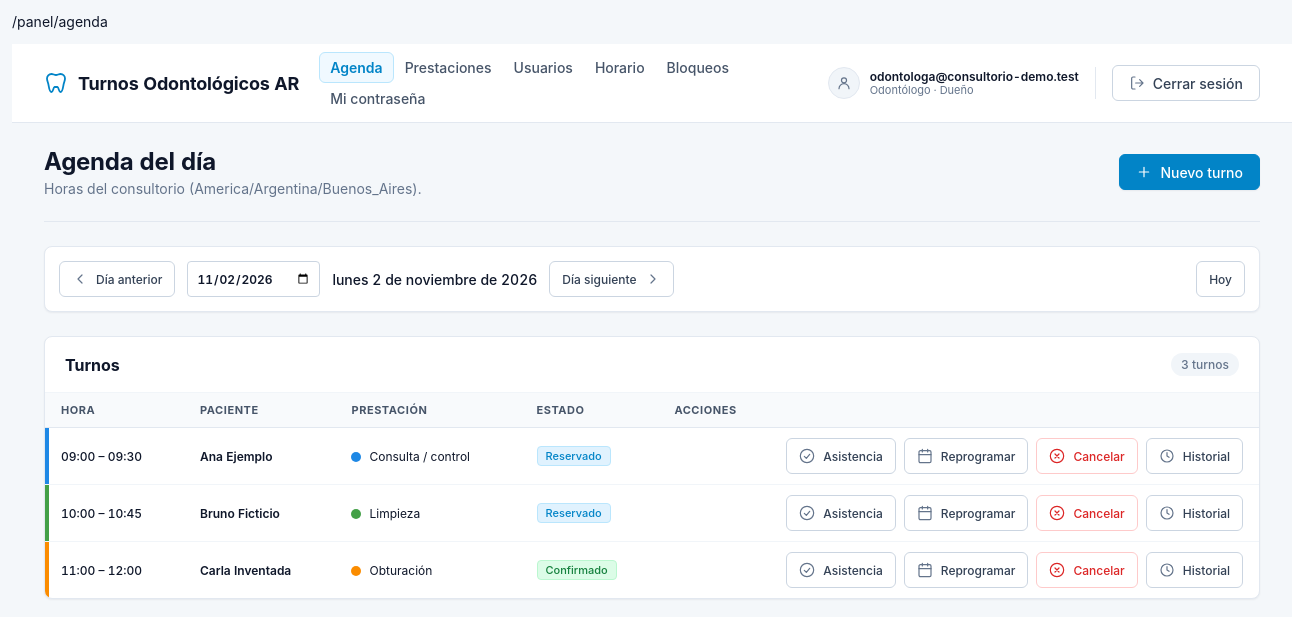
Scenario: PaginaAgenda: el día › AGE-4b: cambiar de día y volver a hoy
Expected: the text "lunes 2 de noviembre de 2026" is shown, [332,270,537,288]
Click the button "Día siguiente" at (611, 279), box [549,261,674,297]
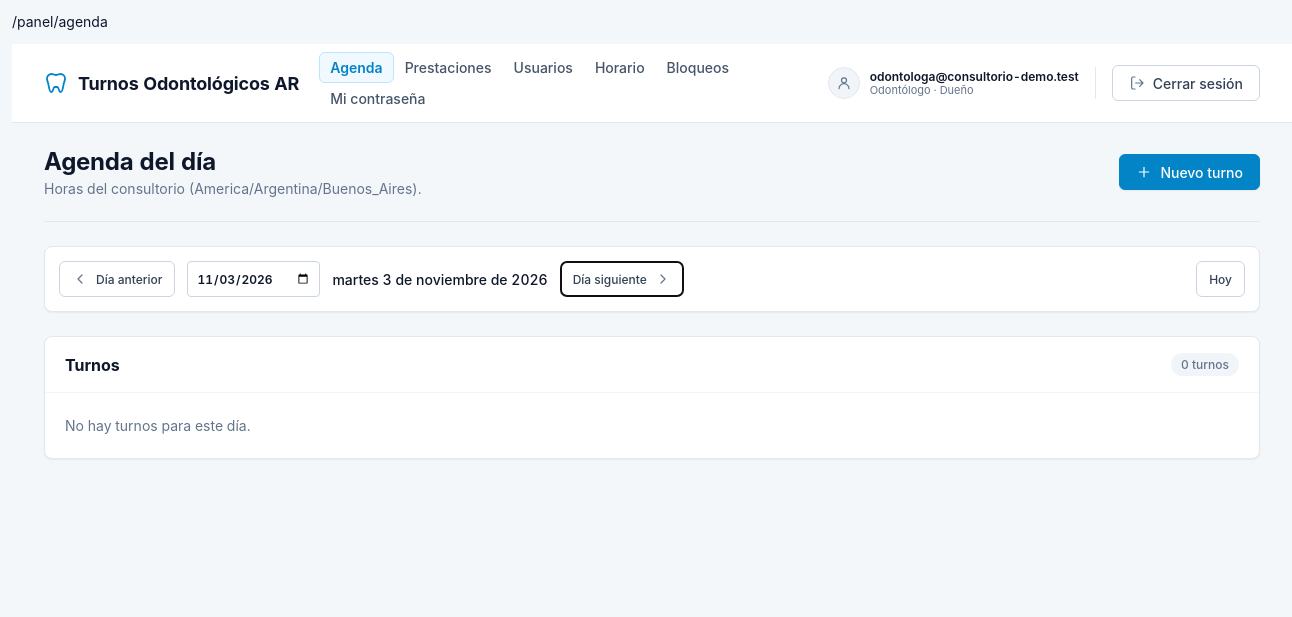
Expected: the text "martes 3 de noviembre de 2026" is shown, [332,270,548,288]
Expected: the text "No hay turnos para este día." is shown, [65,417,250,434]
Click the button "Día anterior" at (117, 279), box [59,261,175,297]
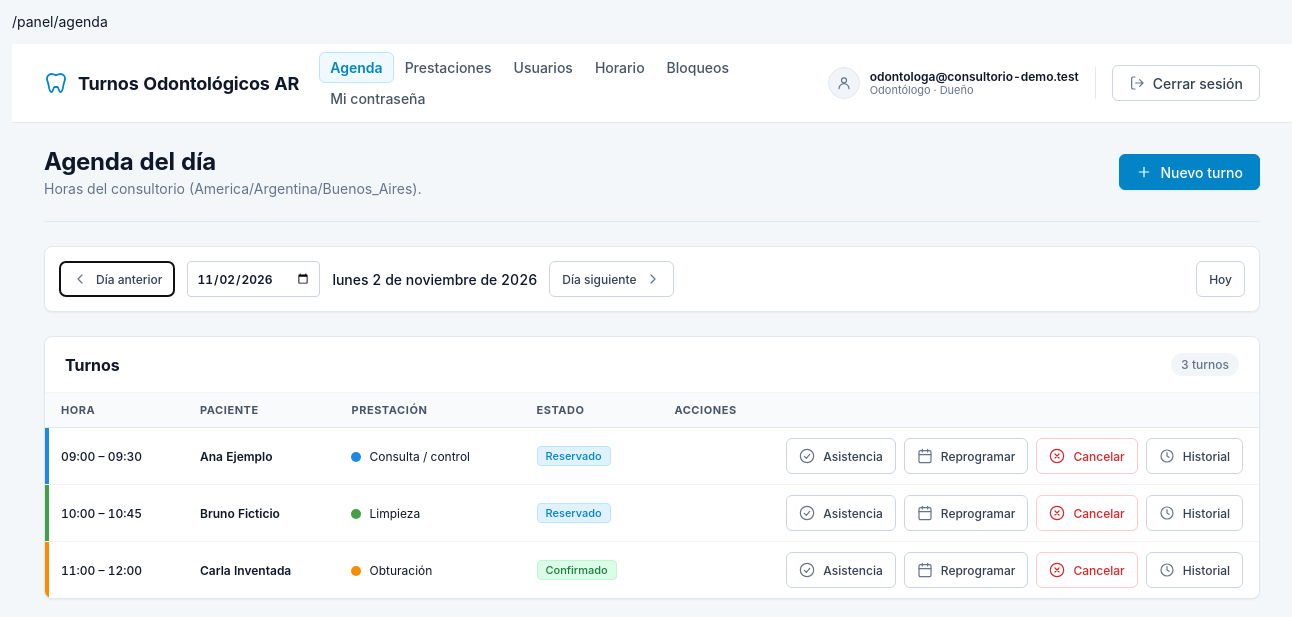
Expected: the text "lunes 2 de noviembre de 2026" is shown, [332,270,537,288]
Click the button "Día anterior" at (117, 279), box [59,261,175,297]
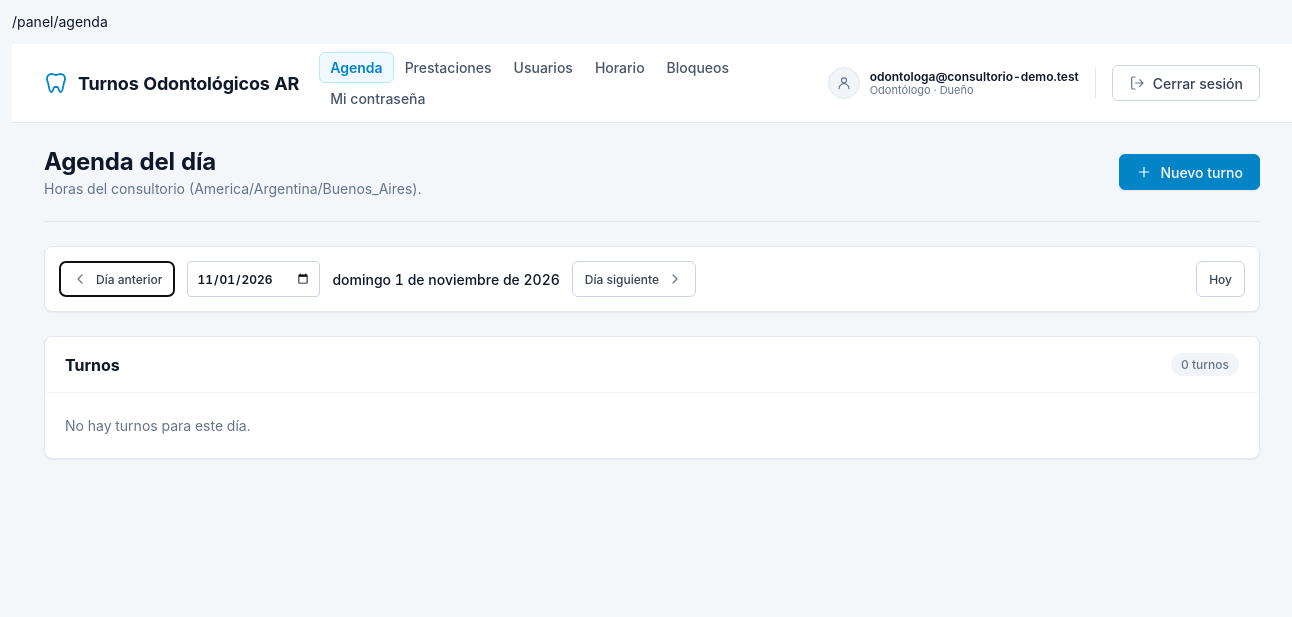
Expected: the text "domingo 1 de noviembre de 2026" is shown, [332,270,560,288]
Type "2026-11-10" into the date field named "Fecha de la agenda" at (254, 279), box [187,261,320,297]
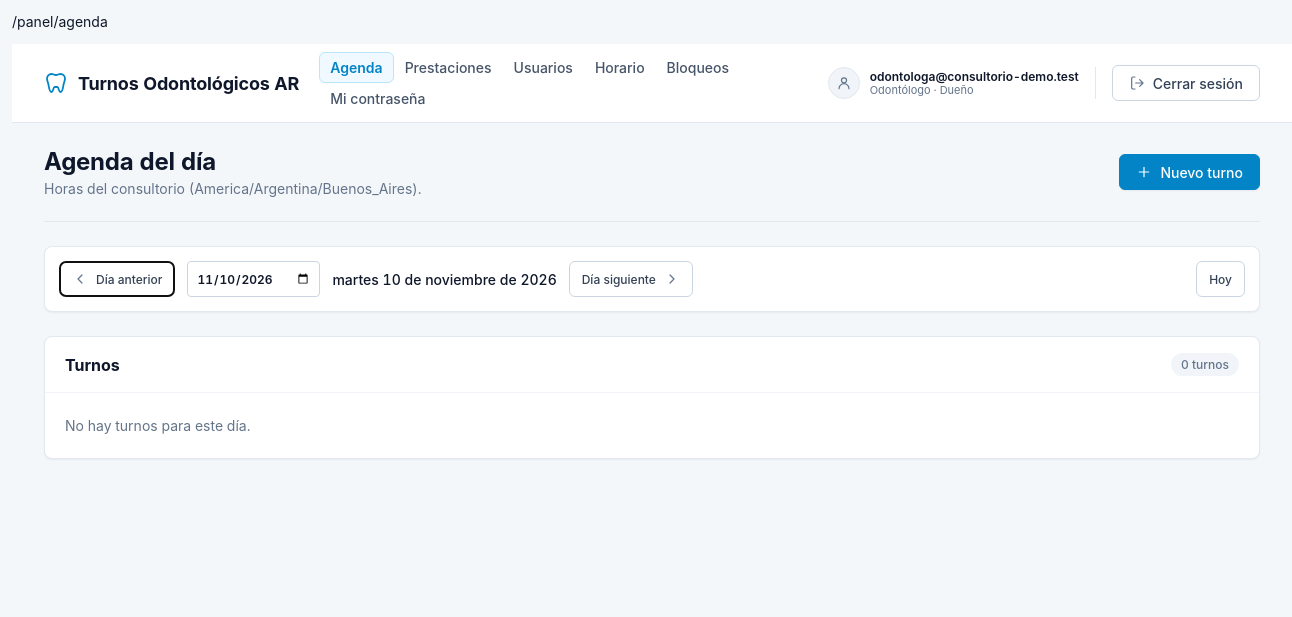
Expected: the text "martes 10 de noviembre de 2026" is shown, [332,270,557,288]
Click the button "Hoy" at (1221, 279), box [1196,261,1245,297]
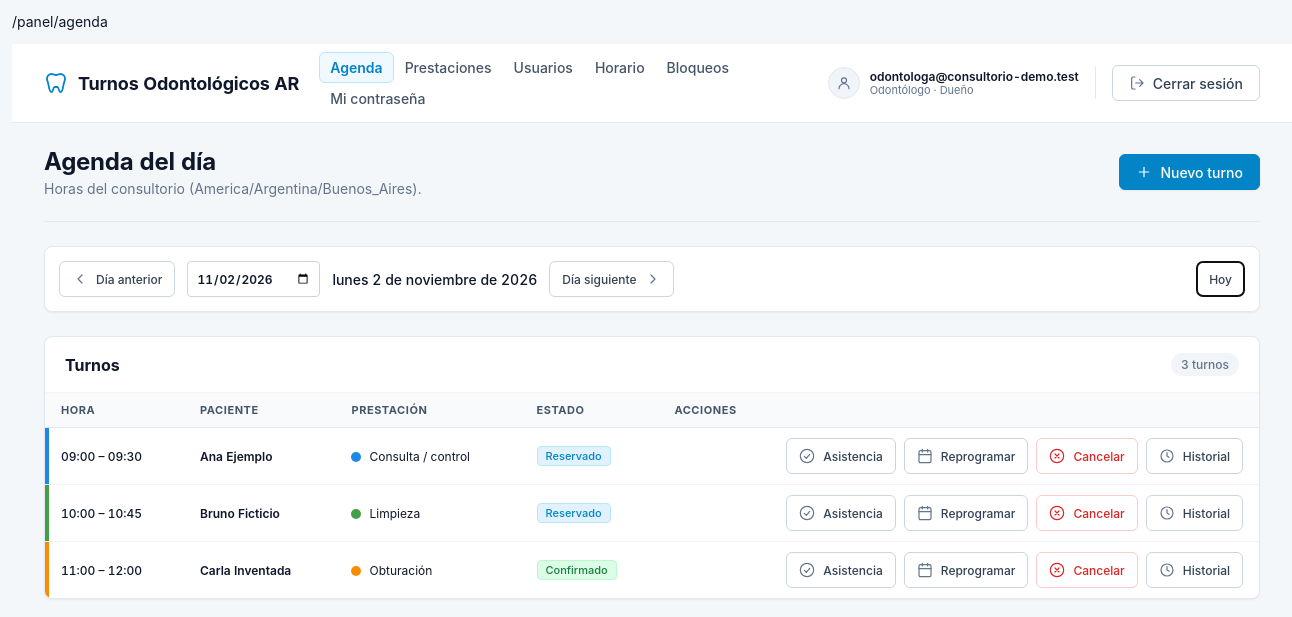
Expected: the text "lunes 2 de noviembre de 2026" is shown, [332,270,537,288]
